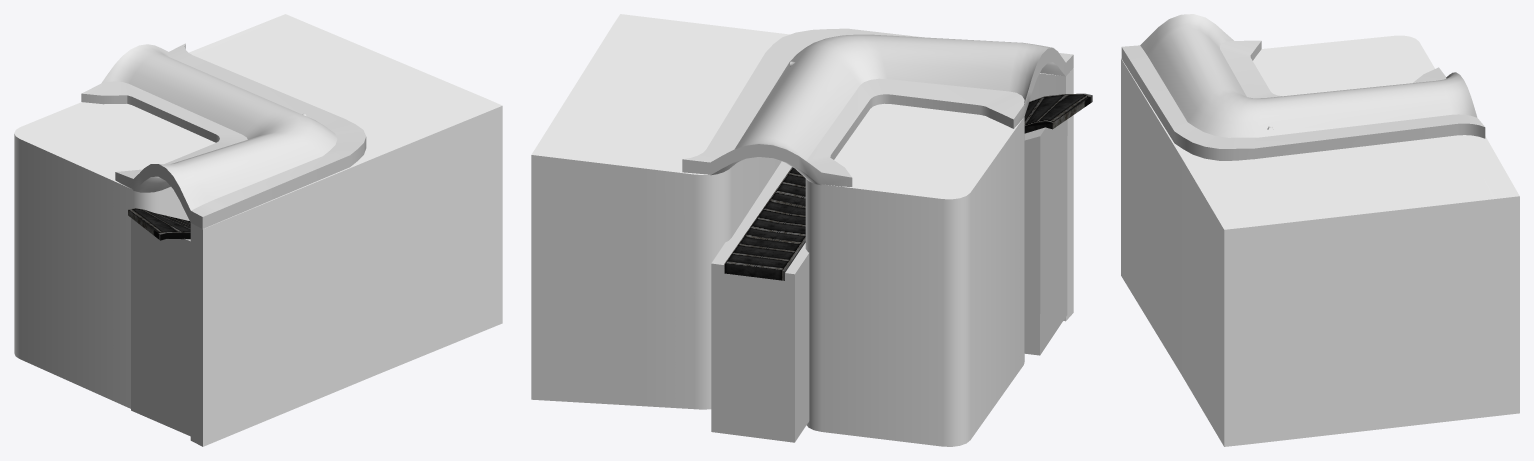
File: M3_Bo_MedalWorks_tunnel3_low.fbx
The picture shows the model from 3 angles, left to right: view 1: azimuth 30°, elevation 25°; view 2: azimuth 150°, elevation 25°; view 3: azimuth 270°, elevation 25°; orthographic projection. The views are drawn at different scales.
Visible parts, largest first — view 1: Tunnel_outer_low, Tunnel_inner_low, Tunnel_ceeling_low, tunnel_floo_low, Tunnel_convayor_low; view 2: Tunnel_outer_low, Tunnel_inner_low, Tunnel_ceeling_low, tunnel_floo_low, Tunnel_convayor_low; view 3: Tunnel_outer_low, Tunnel_ceeling_low, Tunnel_inner_low.
Part boxes in pixels (x1,y1,x2,y2): Tunnel_outer_low: (189, 14, 502, 446); Tunnel_inner_low: (14, 102, 215, 408); Tunnel_ceeling_low: (81, 43, 366, 228); tunnel_floo_low: (131, 218, 193, 437); Tunnel_convayor_low: (128, 208, 190, 240); Tunnel_outer_low: (531, 14, 1073, 409); Tunnel_inner_low: (805, 103, 1024, 446); Tunnel_ceeling_low: (682, 28, 1073, 186); tunnel_floo_low: (711, 119, 1067, 442); Tunnel_convayor_low: (724, 93, 1092, 280); Tunnel_outer_low: (1121, 58, 1519, 446); Tunnel_ceeling_low: (1121, 14, 1485, 160); Tunnel_inner_low: (1253, 35, 1434, 96).
Size of the model in its own units: 4790 by 2996 by 4172.
